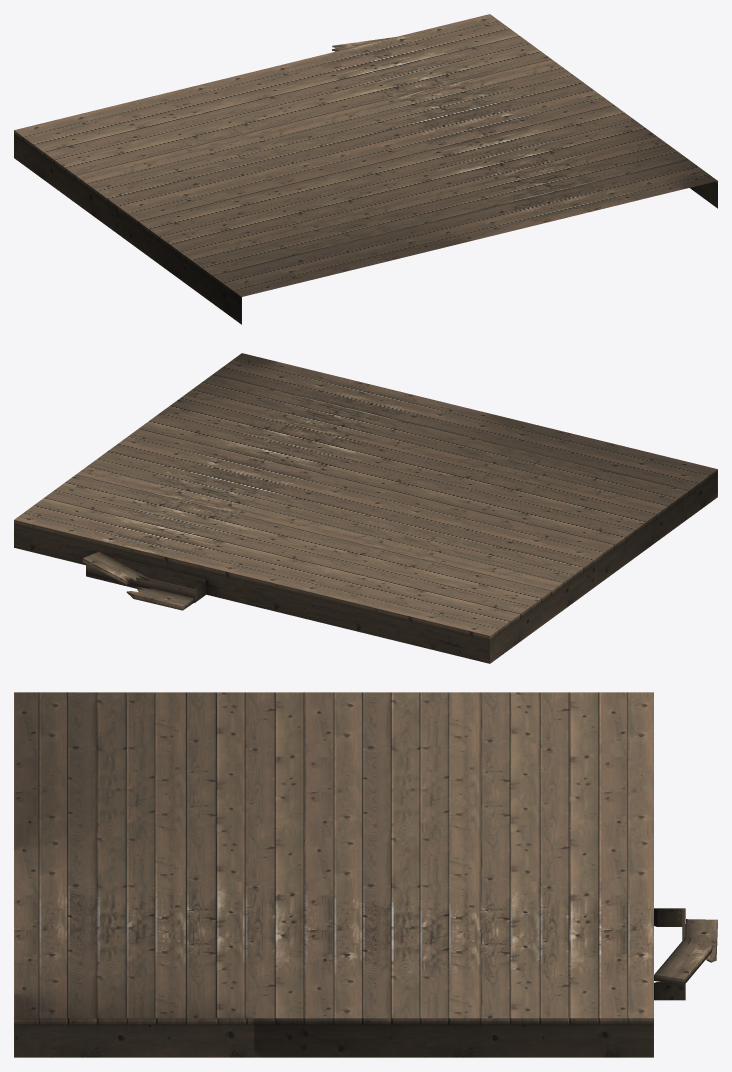
File: WoodDeck_Broken v2.fbx
The picture shows the model from 3 angles, top to bottom: view 1: azimuth 30°, elevation 25°; view 2: azimuth 150°, elevation 25°; view 3: azimuth 270°, elevation 25°; orthographic projection. The views are drawn at different scales.
Visible parts, largest first — view 1: WoodDeck; view 2: WoodDeck, BrokenStep; view 3: WoodDeck, BrokenStep.
Boxes of the visible parts, x1,y1,x2,y2 form: WoodDeck: (14, 14, 717, 324); WoodDeck: (14, 353, 717, 663); BrokenStep: (82, 551, 206, 610); WoodDeck: (14, 692, 653, 1057); BrokenStep: (654, 908, 717, 1000).
Size of the model in its own units: 436 by 24.59 by 398.
